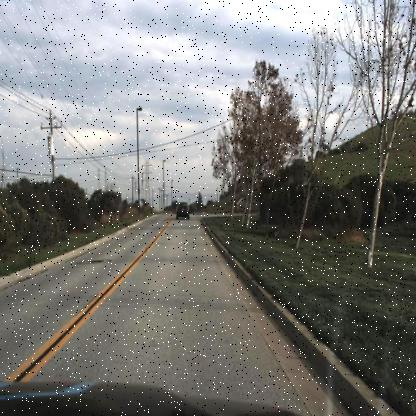car: (174, 195, 189, 223)
